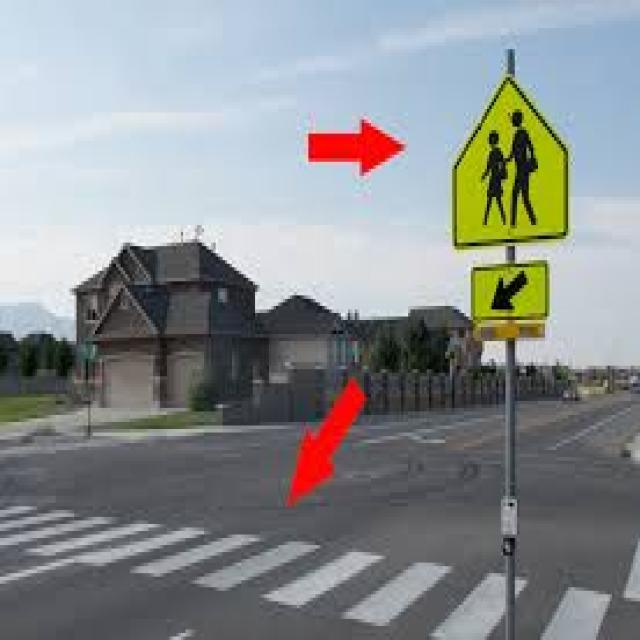Crosswalk: (0, 503, 613, 640)
